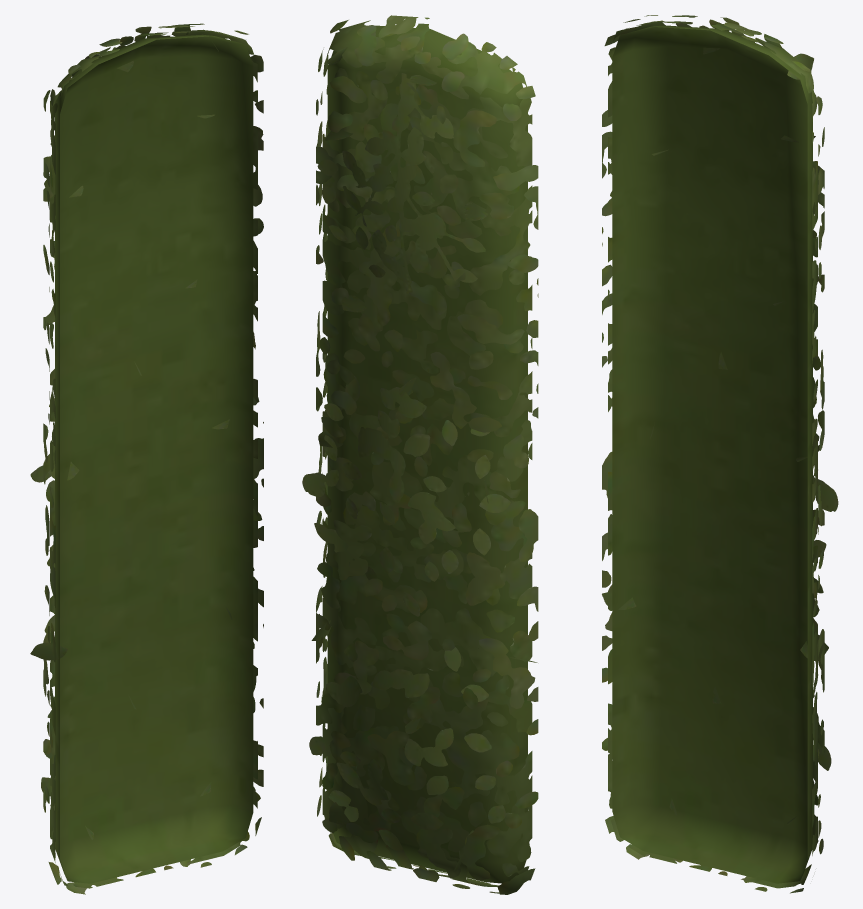
3 renders of one model, left to right at view 1: azimuth 30°, elevation 25°; view 2: azimuth 150°, elevation 25°; view 3: azimuth 330°, elevation 25°, orthographic.
Parts seen in each view (by area): view 1: body0_model0_lod0_mesh0; view 2: body0_model0_lod0_mesh0; view 3: body0_model0_lod0_mesh0.
Boxes of the visible parts, left/top/right/bottom form: body0_model0_lod0_mesh0: left=30, top=23, right=263, bottom=894; body0_model0_lod0_mesh0: left=302, top=15, right=538, bottom=894; body0_model0_lod0_mesh0: left=602, top=15, right=838, bottom=893.
Size of the model in its own units: 39.6 by 134 by 11.57.
Materials: 1 (1 with a texture image).
